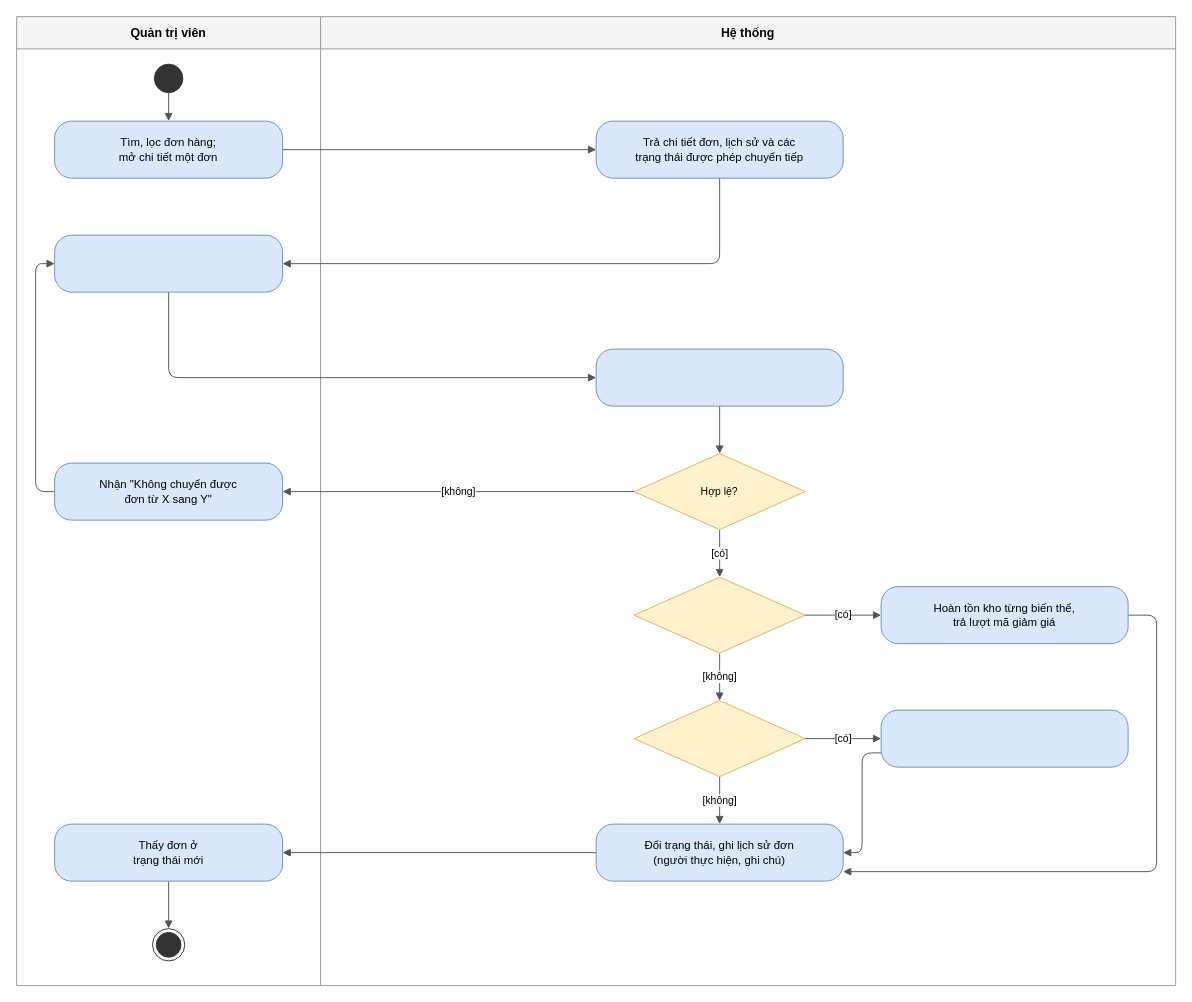
Some shapes in this 1192 by 1002 pixel diagram are drawn without their labels. Here are the shapes that lost their labels. From the top down, the centre of each, then its label:
(168,263): Chọn trạng thái mới, nhập ghi chú
(719,377): Khóa đơn; kiểm chuyển hợp lệ theo sơ đồ trạng thái
(719,614): Hủy đơn?
(719,738): Hoàn thành đơn COD?
(1004,738): Đánh dấu đơn đã thanh toán
